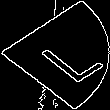L_NW: (15, 26, 95, 84)
